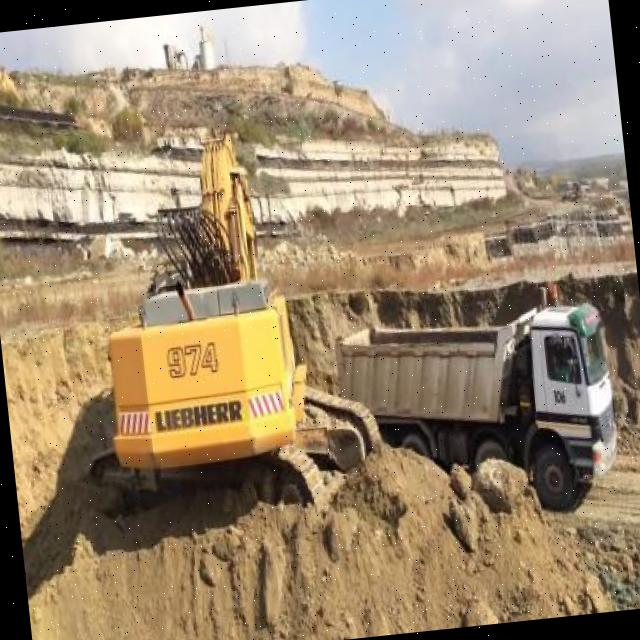Dump Truck: (332, 286, 624, 532)
Excavator: (64, 116, 384, 537)
